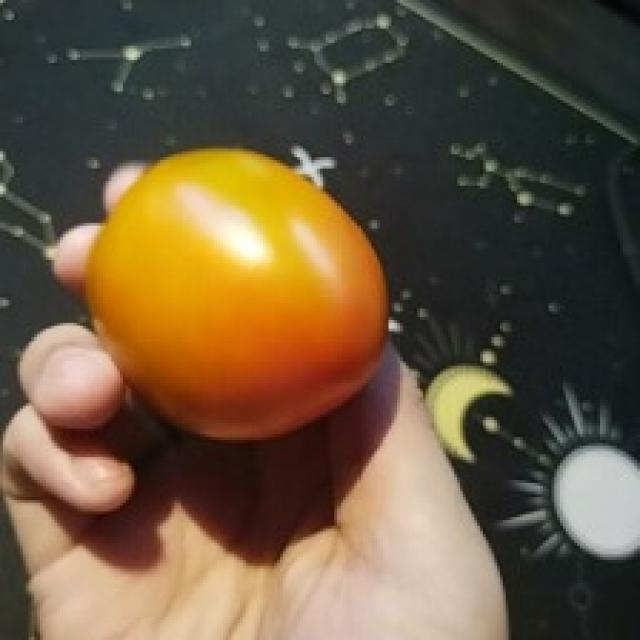Fresh Tomato: (70, 151, 401, 461)
